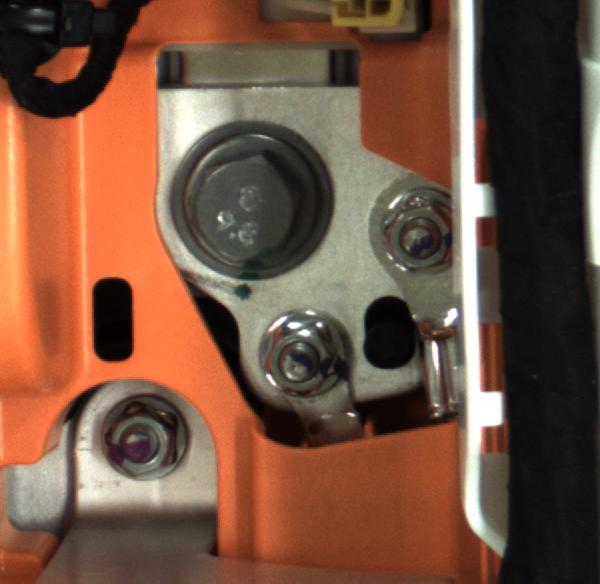nut_b: (159, 112, 334, 285)
screw_s: (251, 308, 349, 406), (378, 189, 466, 280), (100, 397, 189, 485)
